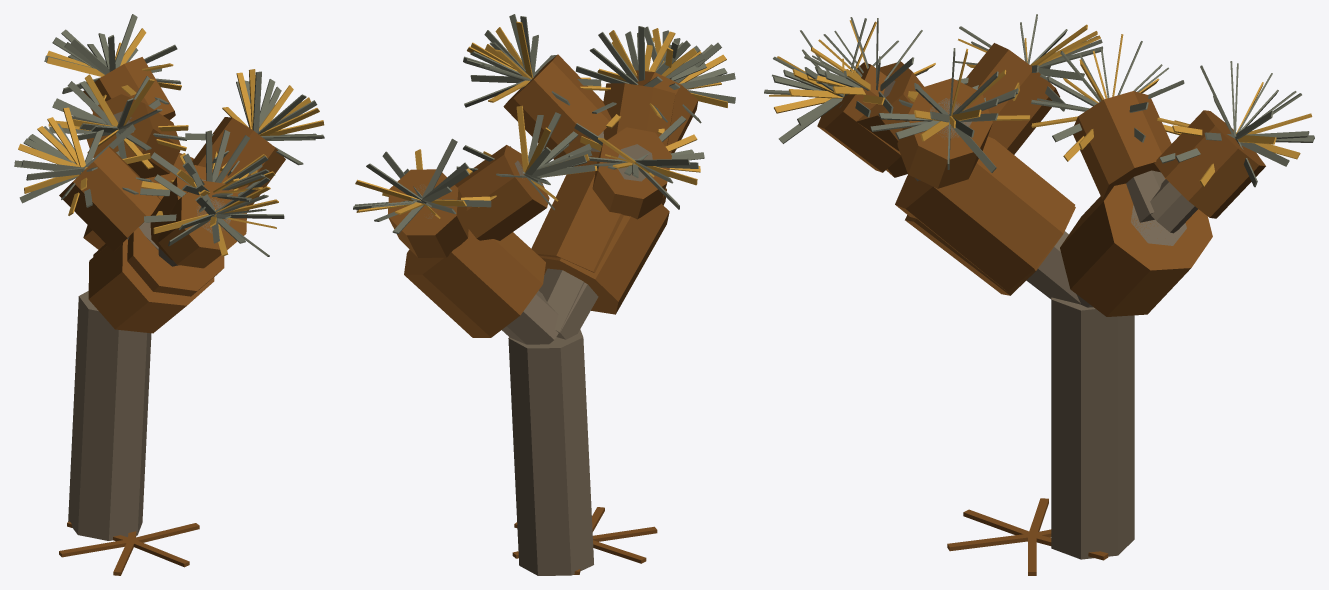
Rendered from desert_joshua.glb.
3 renders of one model, left to right at view 1: azimuth 30°, elevation 25°; view 2: azimuth 150°, elevation 25°; view 3: azimuth 270°, elevation 25°, orthographic. The views are drawn at different scales.
Parts seen in each view (by area): view 1: desert_joshua; view 2: desert_joshua; view 3: desert_joshua.
Boxes of the visible parts, x1,y1,x2,y2 form: desert_joshua: [14, 14, 324, 575]; desert_joshua: [353, 14, 735, 575]; desert_joshua: [764, 14, 1314, 575].
Bounding box in the file's own units: 2.34 × 4.12 × 3.78.
